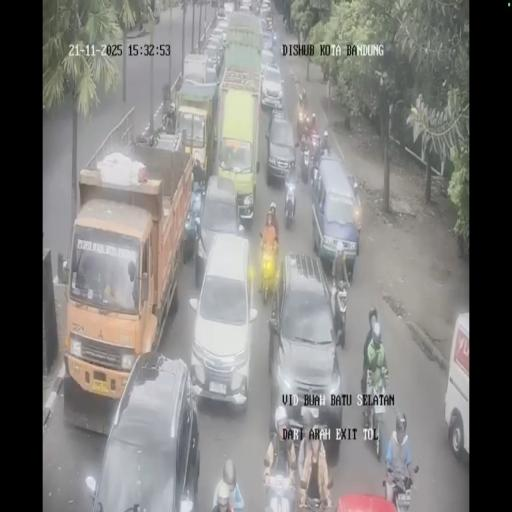car: (88, 352, 200, 509), (267, 254, 343, 445), (311, 156, 361, 274), (196, 174, 243, 278), (444, 314, 468, 462), (265, 112, 296, 186), (260, 61, 284, 110), (203, 41, 224, 80), (260, 30, 274, 58), (215, 16, 230, 42), (223, 0, 235, 16), (260, 0, 271, 17), (240, 0, 252, 12)
motorcycle: (360, 368, 387, 454), (383, 459, 419, 510), (264, 462, 296, 512), (258, 237, 278, 301), (332, 285, 350, 345), (299, 141, 312, 183), (284, 184, 296, 228), (162, 96, 176, 132), (310, 155, 322, 193), (296, 102, 306, 132)
truck: (173, 77, 217, 182), (221, 8, 263, 84)
